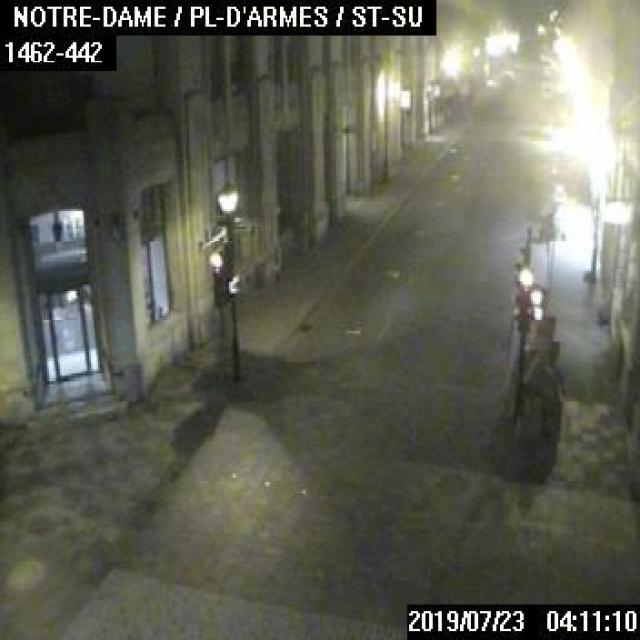pedestrian: (536, 354, 562, 456)
